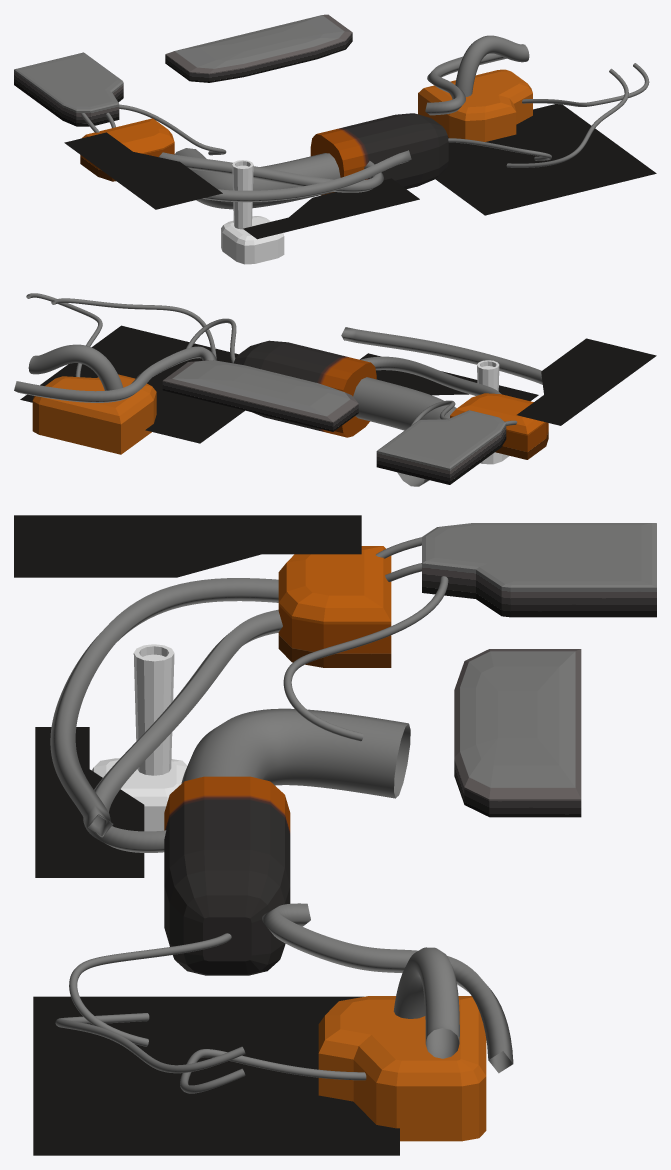
The model's file is edit.fbx.
3 renders of one model, top to bottom at view 1: azimuth 30°, elevation 25°; view 2: azimuth 150°, elevation 25°; view 3: azimuth 270°, elevation 25°, orthographic. The views are drawn at different scales.
Parts seen in each view (by area): view 1: Random, Cables, RWV; view 2: Random, Cables, RWV; view 3: Random, Cables, RWV.
Part boxes in pixels (box(x1,y1,x2,y2)): Random: box(14, 14, 656, 239); Cables: box(81, 35, 649, 209); RWV: box(221, 160, 284, 264); Random: box(20, 325, 656, 484); Cables: box(14, 293, 542, 486); RWV: box(477, 360, 509, 464); Random: box(14, 515, 656, 1155); Cables: box(50, 537, 513, 1093); RWV: box(91, 644, 187, 831).
Bounding box in the file's own units: 105 × 20.33 × 56.84.
